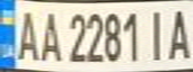1: (121, 7, 145, 62)
2: (63, 7, 87, 64), (84, 8, 106, 63)
8: (103, 8, 124, 63)
A: (9, 5, 42, 62), (163, 3, 193, 61), (36, 6, 63, 62)
I: (142, 6, 169, 61)
